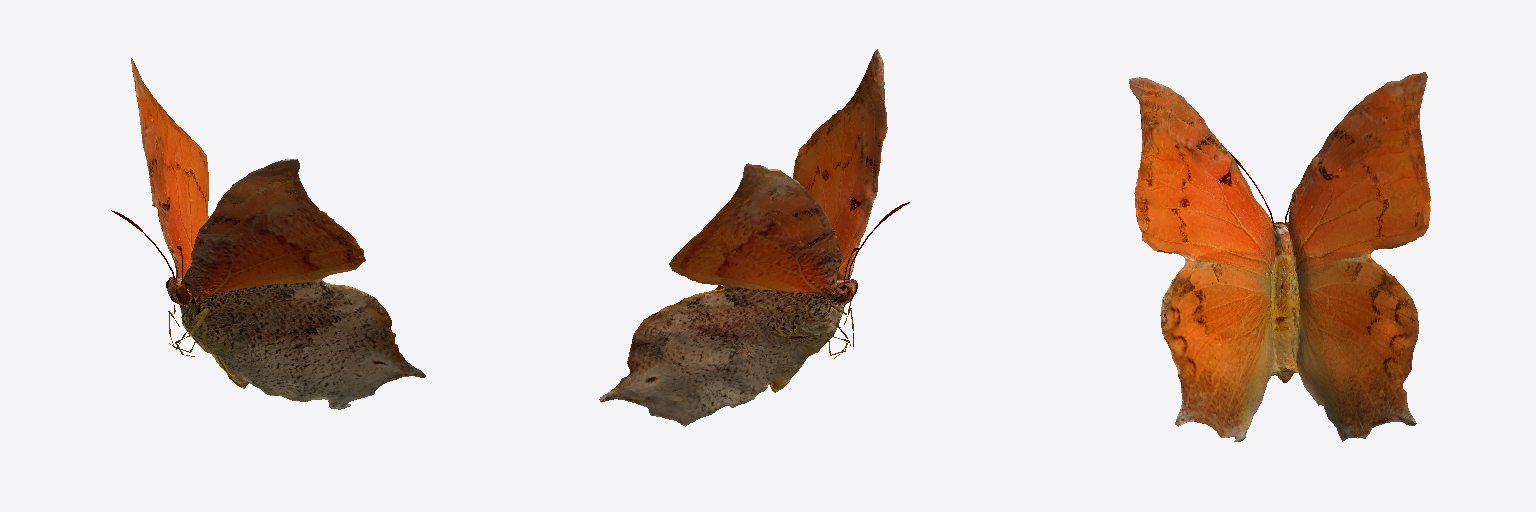
3 views of the same model, side by side, from view 1: azimuth 30°, elevation 25°; view 2: azimuth 150°, elevation 25°; view 3: azimuth 270°, elevation 25° (orthographic).
Parts seen in each view (by area): view 1: mmGroup0; view 2: mmGroup0; view 3: mmGroup0.
Part boxes in pixels (bbox=[...]): mmGroup0: bbox=[131, 58, 425, 409]; mmGroup0: bbox=[599, 49, 887, 426]; mmGroup0: bbox=[1129, 72, 1430, 441].
Bounding box in the file's own units: 9.61 × 12.46 × 10.61.
Materials: 4 (1 with a texture image).